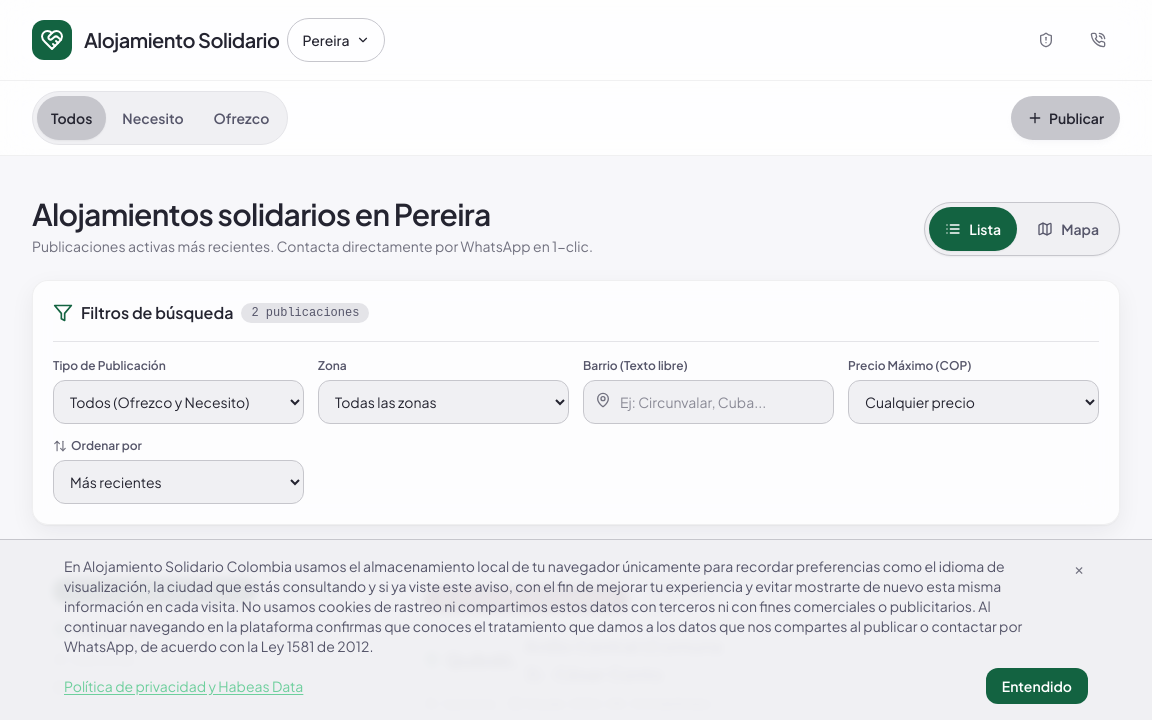
Test: EmergencyBanner dismiss/reopen (US-1.5) › el ícono de teléfono del Navbar reabre el banner y limpia localStorage
Click the button named "Mostrar líneas de atención de emergencia" at (1098, 40), box [1076,18,1120,62]
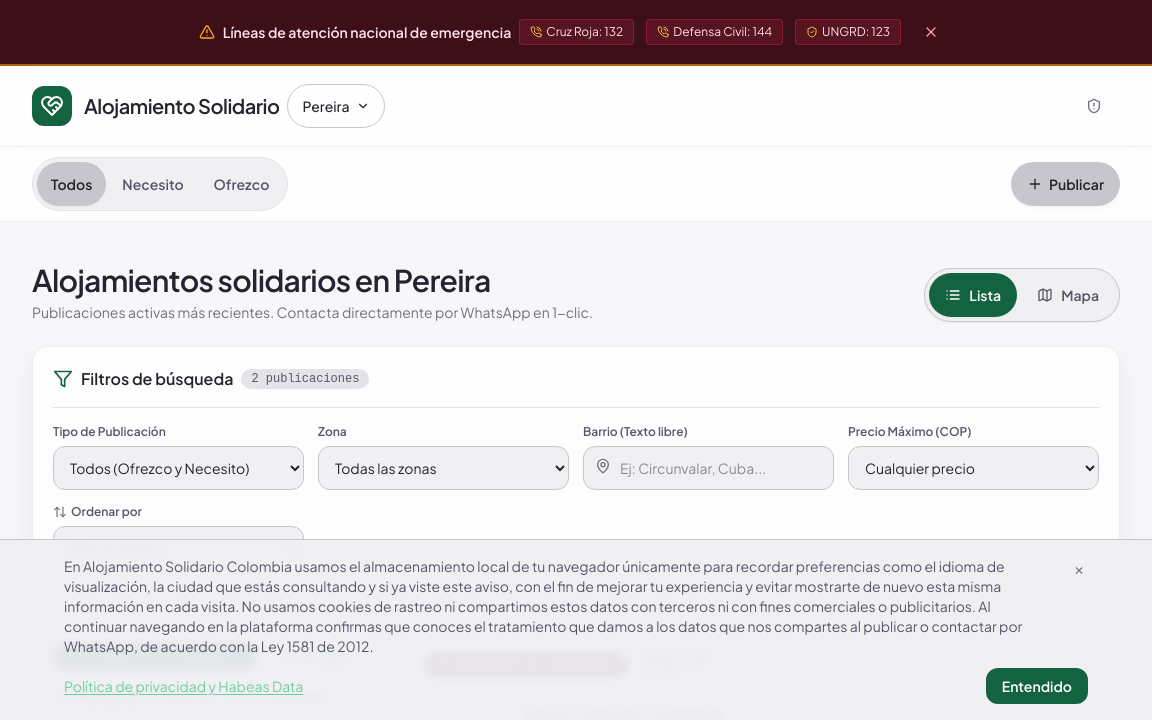
Result: the text "Líneas de atención nacional de emergencia" is shown at [223,22,511,42]
